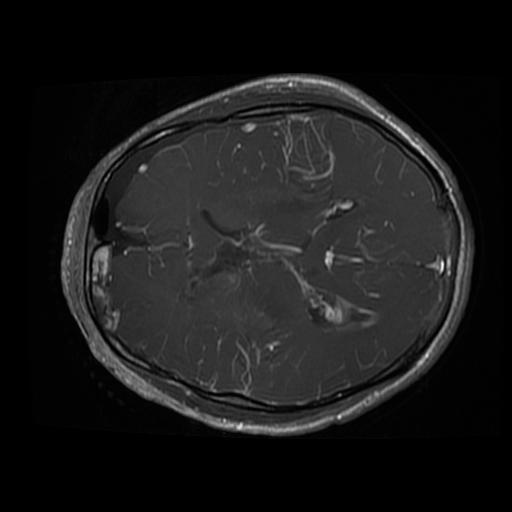glioma: (182, 188, 329, 319)
